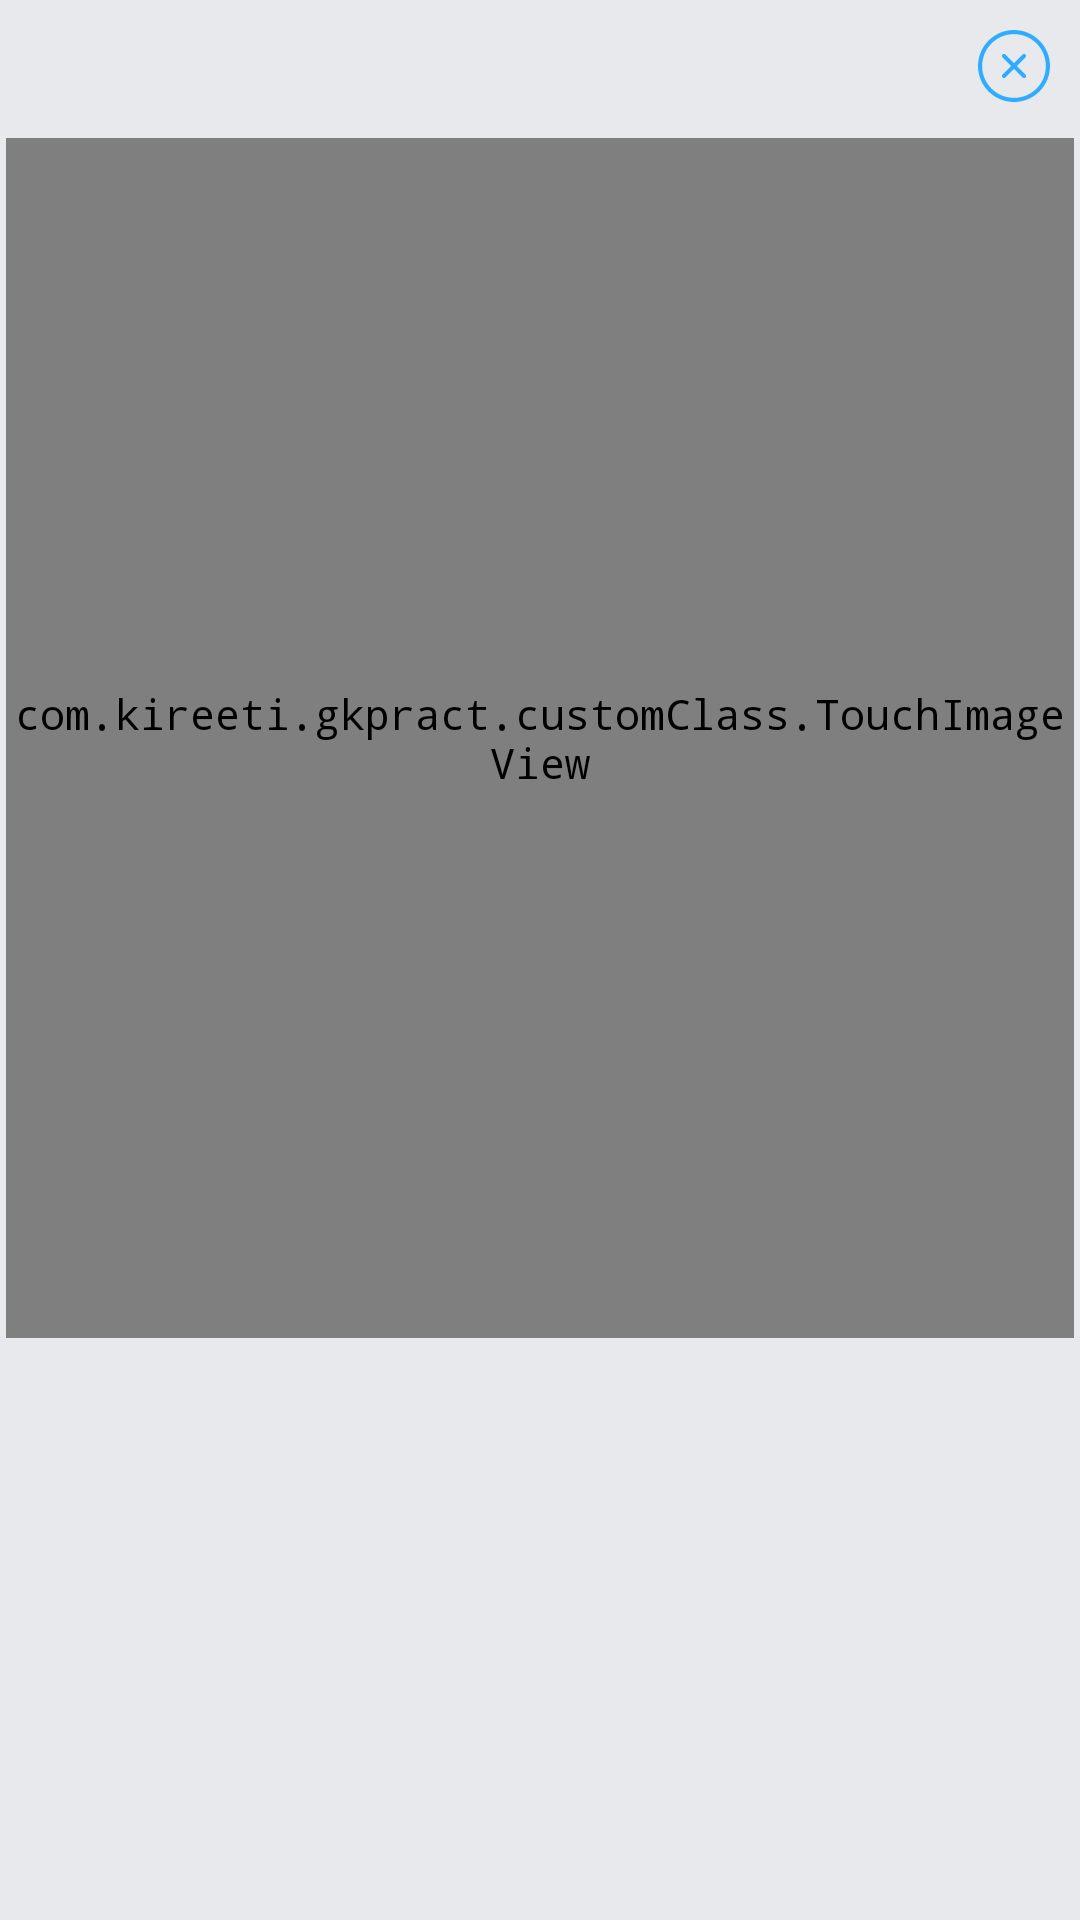

Screen size 1080px×1920px. Icon name, then its center in pixels as [x,y]:
cancel: [1014,66]
